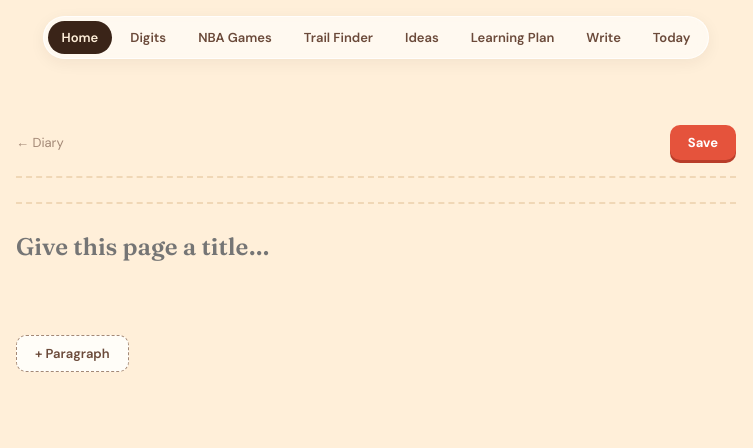
it: shows the re-auth banner instead of a generic save-failed message when the tab has been idle long enough for the token to expire
Expected: the field with placeholder "Give this page a title…" is shown, [16,220,736,275]
Click the button "Save" at (703, 142), box [670,125,736,160]
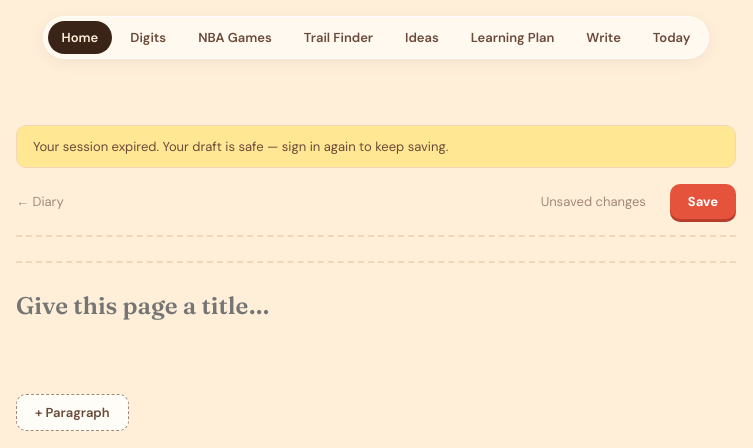
Result: the text "session expired" is shown at [33,138,448,155]
